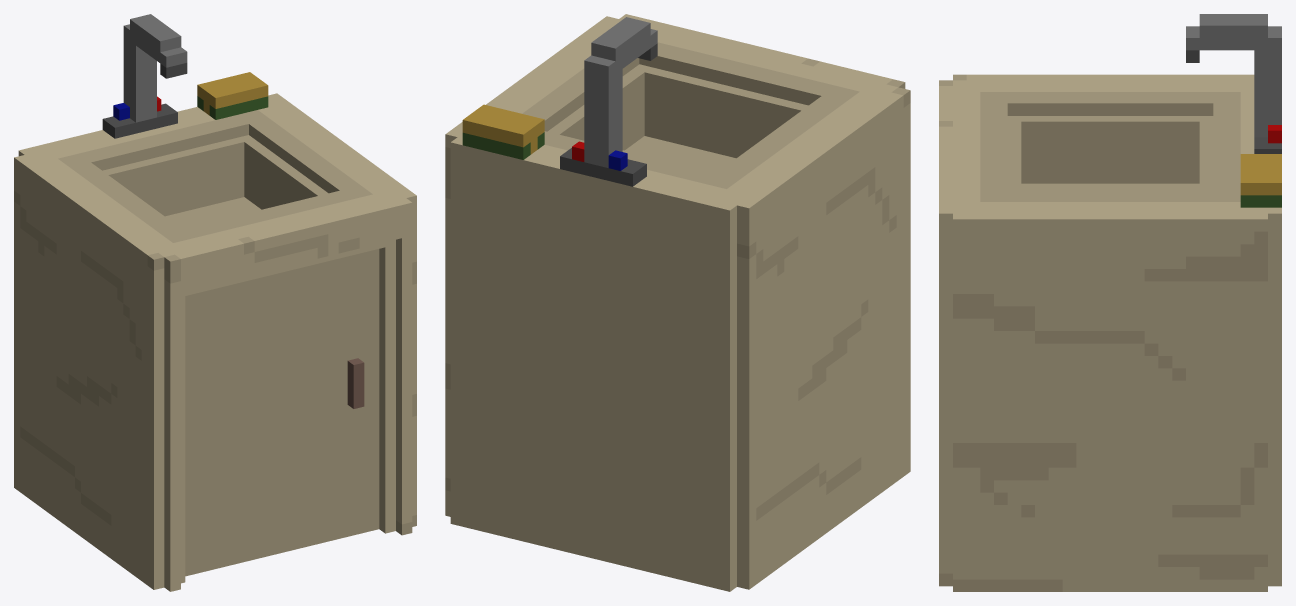
Rendered from Racovina_kitchen.obj.
The picture shows the model from 3 angles, left to right: view 1: azimuth 30°, elevation 25°; view 2: azimuth 150°, elevation 25°; view 3: azimuth 270°, elevation 25°; orthographic projection. The views are drawn at different scales.
Size of the model in its own units: 2.5 by 4 by 2.5.
1 material, 1 textured.
